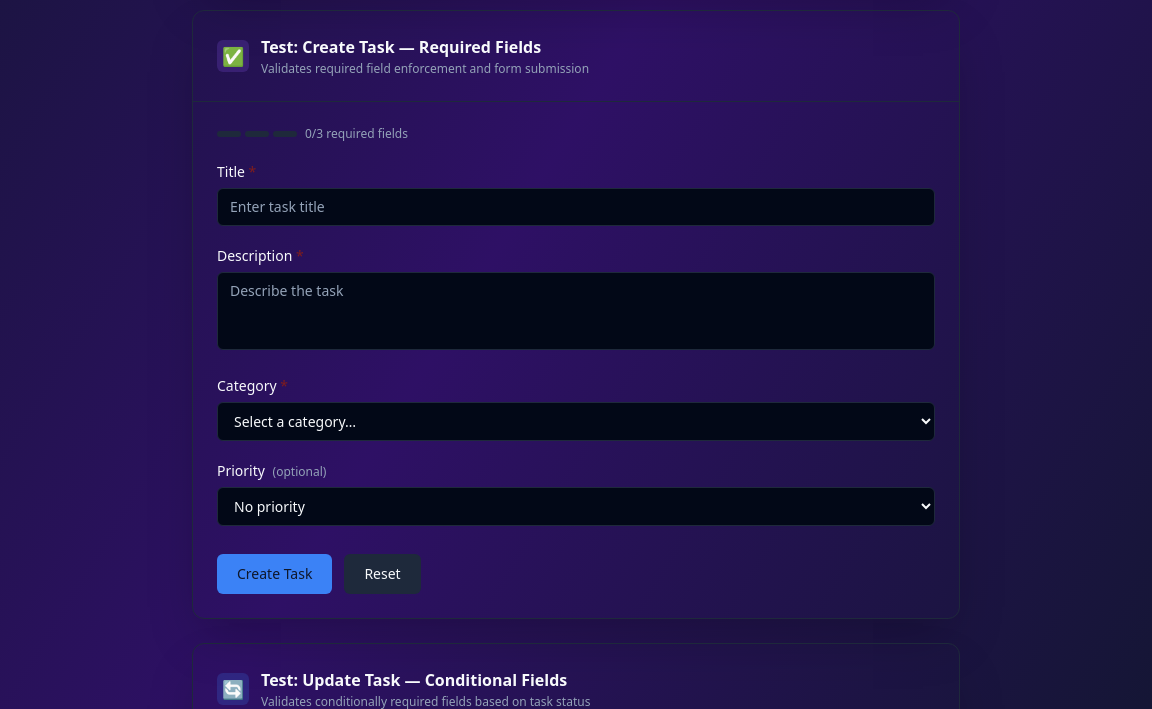
Create Task — Required Fields › resets form and clears errors after clicking Reset
(page scrolled)
Submit the form, box top-left (217, 126), bottom-right (935, 594)
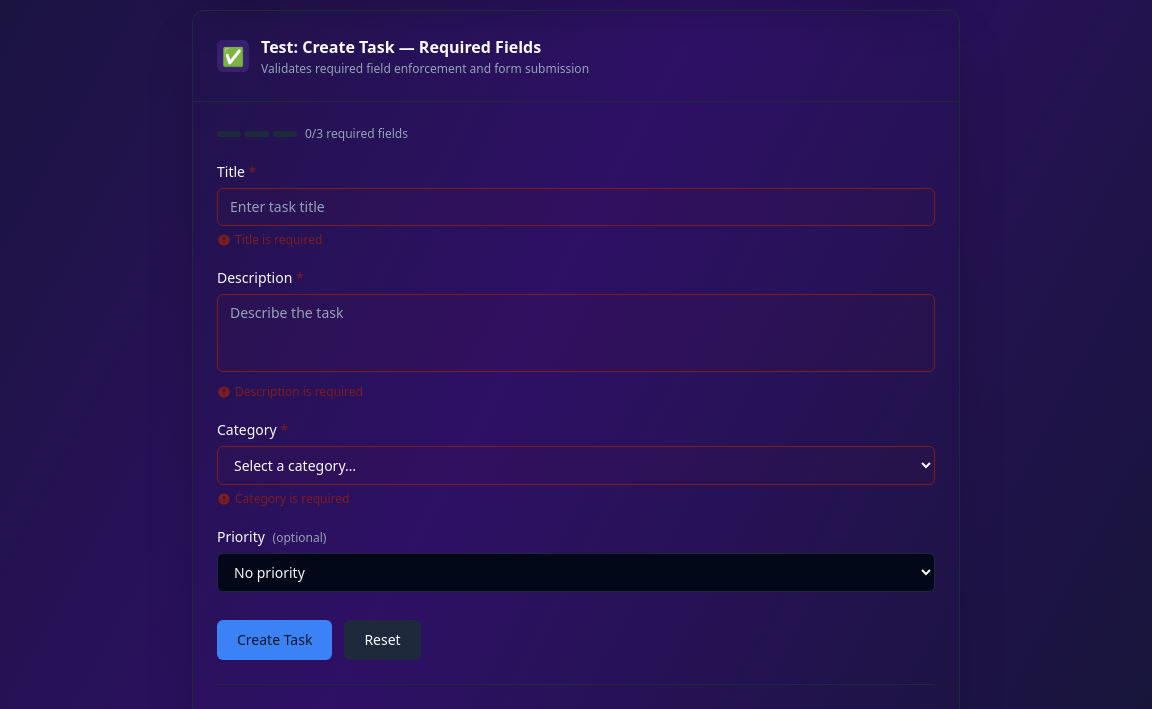
Result: the text "Title is required" is shown at top-left (217, 231), bottom-right (322, 248)
Click the button "Reset".
click(383, 640)  # box top-left (344, 620), bottom-right (421, 660)
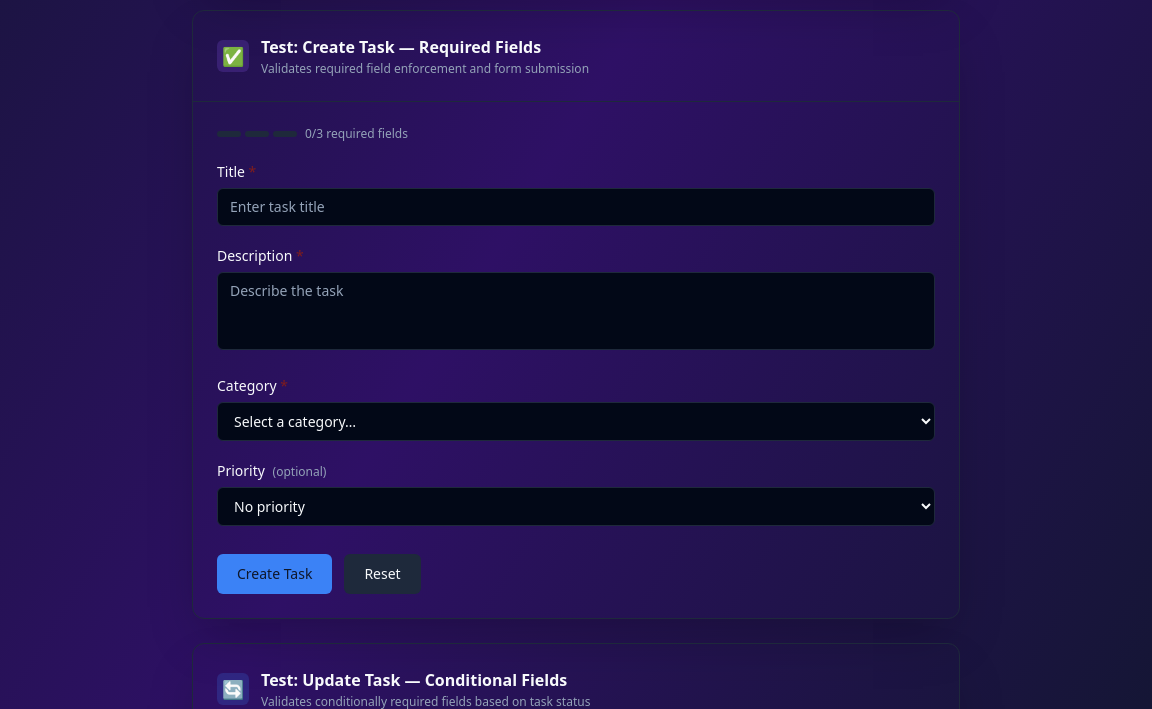
Result: the text "Title is required" is gone
